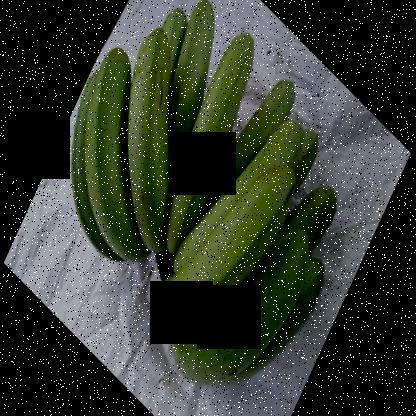freshunripe: (144, 183, 306, 340), (168, 233, 317, 394), (176, 35, 258, 260), (81, 47, 137, 271), (217, 77, 303, 216), (124, 41, 176, 265), (178, 3, 212, 172), (248, 112, 312, 190), (290, 189, 345, 246)
